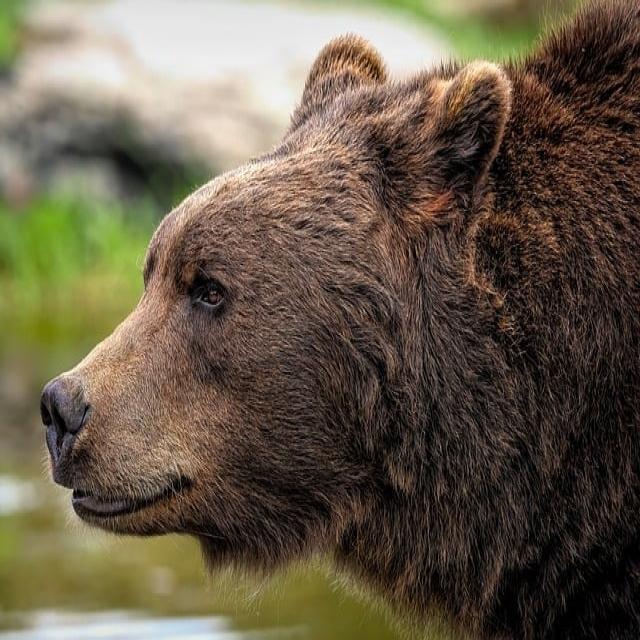Carnivorous: (39, 0, 640, 640)
